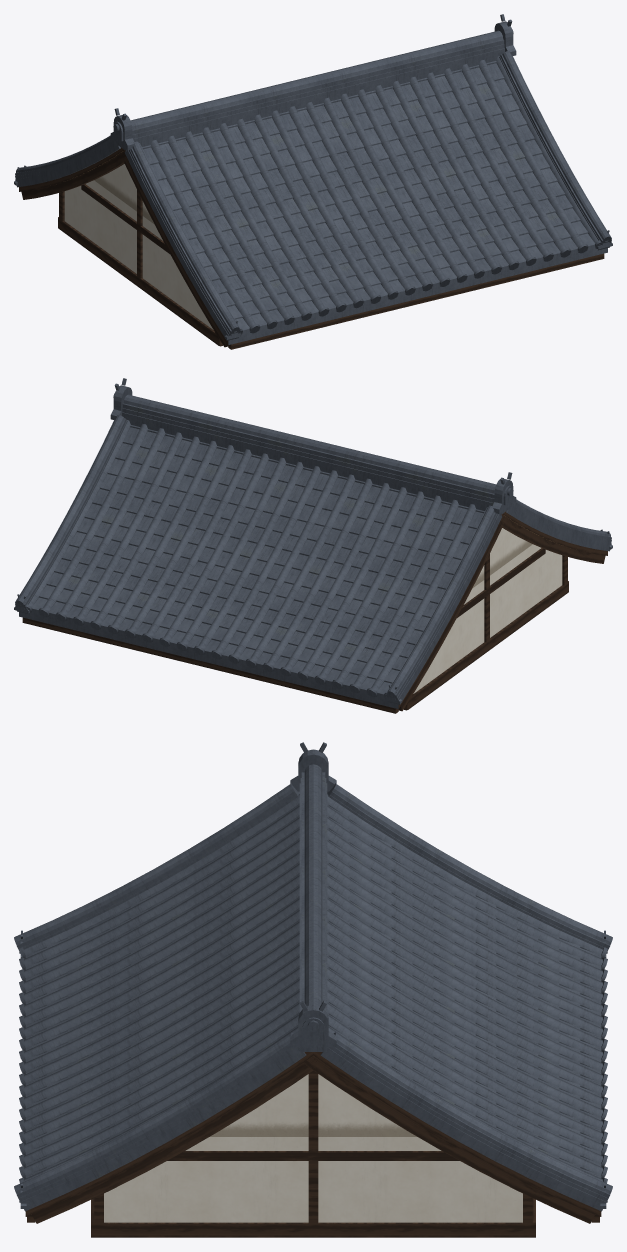
Rendered from HO_Roof_Kirizuma_Large.fbx.
The picture shows the model from 3 angles, top to bottom: view 1: azimuth 30°, elevation 25°; view 2: azimuth 150°, elevation 25°; view 3: azimuth 270°, elevation 25°; orthographic projection. The views are drawn at different scales.
Parts seen in each view (by area): view 1: HO_Roof_Kirizuma_Large_Tiles, HO_Roof_Kirizuma_Large_Frame__Timber_Dark, HO_Roof_Kirizuma_Large_Frame__Plaster_White; view 2: HO_Roof_Kirizuma_Large_Tiles, HO_Roof_Kirizuma_Large_Frame__Timber_Dark, HO_Roof_Kirizuma_Large_Frame__Plaster_White; view 3: HO_Roof_Kirizuma_Large_Tiles, HO_Roof_Kirizuma_Large_Frame__Plaster_White, HO_Roof_Kirizuma_Large_Frame__Timber_Dark.
Part boxes in pixels (box(x1,y1,x2,y2)): HO_Roof_Kirizuma_Large_Tiles: box(14, 14, 612, 344); HO_Roof_Kirizuma_Large_Frame__Timber_Dark: box(19, 147, 604, 349); HO_Roof_Kirizuma_Large_Frame__Plaster_White: box(64, 164, 213, 329); HO_Roof_Kirizuma_Large_Tiles: box(14, 378, 612, 708); HO_Roof_Kirizuma_Large_Frame__Timber_Dark: box(22, 511, 607, 713); HO_Roof_Kirizuma_Large_Frame__Plaster_White: box(413, 528, 562, 693); HO_Roof_Kirizuma_Large_Tiles: box(14, 742, 612, 1211); HO_Roof_Kirizuma_Large_Frame__Plaster_White: box(104, 1074, 522, 1222); HO_Roof_Kirizuma_Large_Frame__Timber_Dark: box(25, 1052, 601, 1237).
Size of the model in its own units: 22.93 by 9.99 by 21.85.
